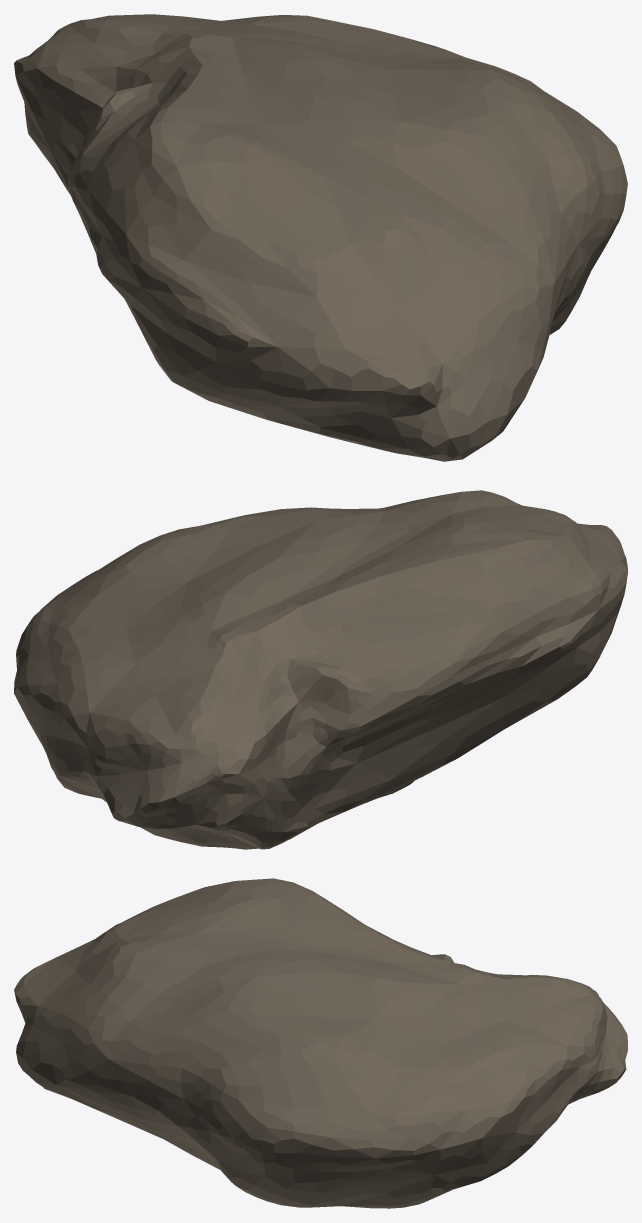
The model's file is rock_1.fbx.
3 views of the same model, one above another, from view 1: azimuth 30°, elevation 25°; view 2: azimuth 150°, elevation 25°; view 3: azimuth 270°, elevation 25° (orthographic). The views are drawn at different scales.
Visible parts, largest first — view 1: rock 1; view 2: rock 1; view 3: rock 1.
Part boxes in pixels (<box>): rock 1: <box>14,14,627,461</box>; rock 1: <box>14,490,627,849</box>; rock 1: <box>14,878,627,1208</box>.
Size of the model in its own units: 618 by 345 by 854.
